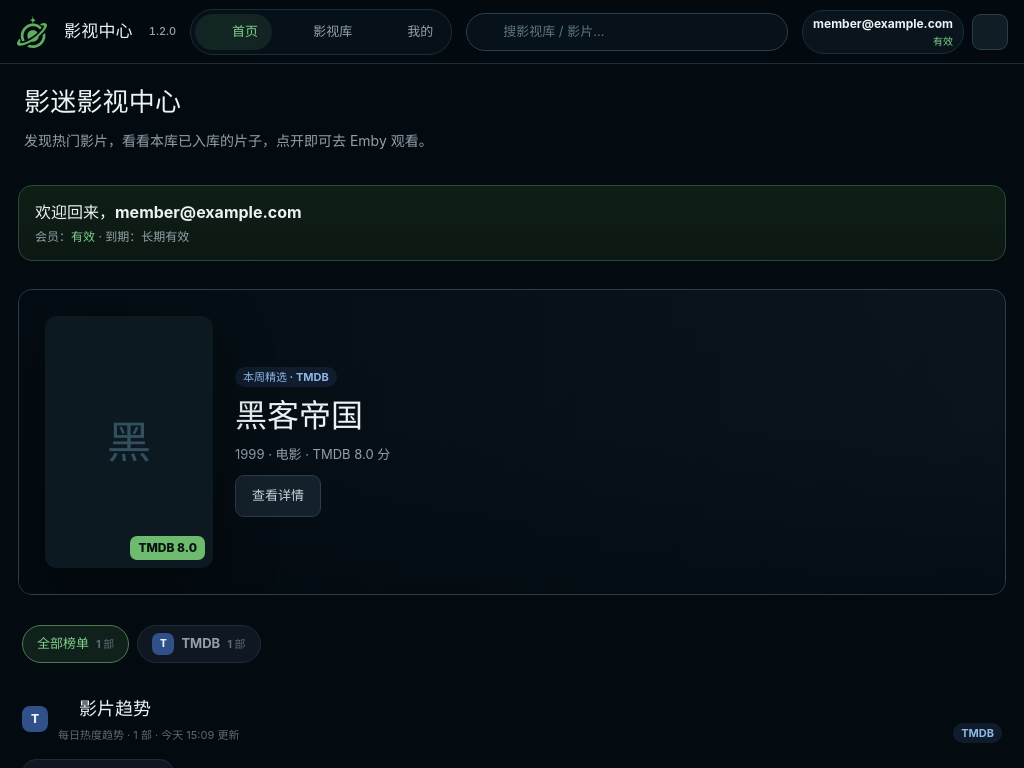
Test: PublicPortal › clears the login state when logging out from the portal
The width and height of the screenshot is (1024, 768).
Expected: the heading "影迷影视中心" is shown, [24, 86, 181, 117]
// 退出后回到锁定页：登录卡片 + 管理端口，内容全部隐藏
Click the button titled "退出登录".
click(990, 32)  # box [972, 14, 1008, 50]
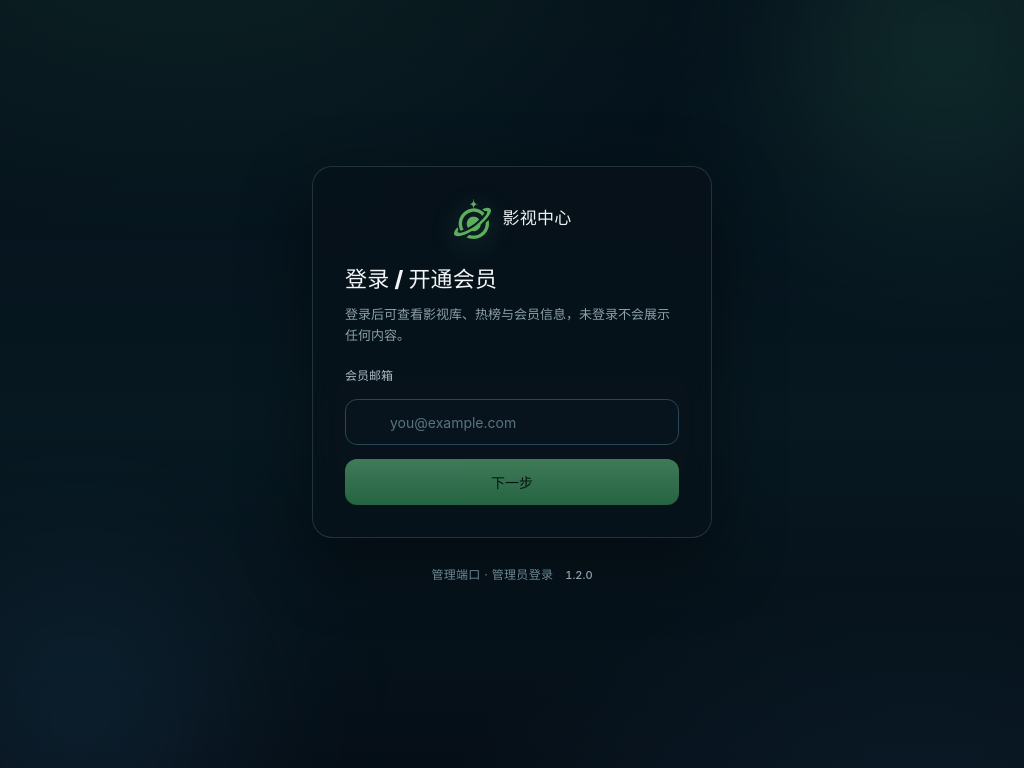
Now the heading "登录 / 开通会员" is shown, box [345, 266, 497, 292]
Now the link "管理端口 · 管理员登录" is shown, box [431, 566, 553, 584]
Now the heading "影迷影视中心" is gone
